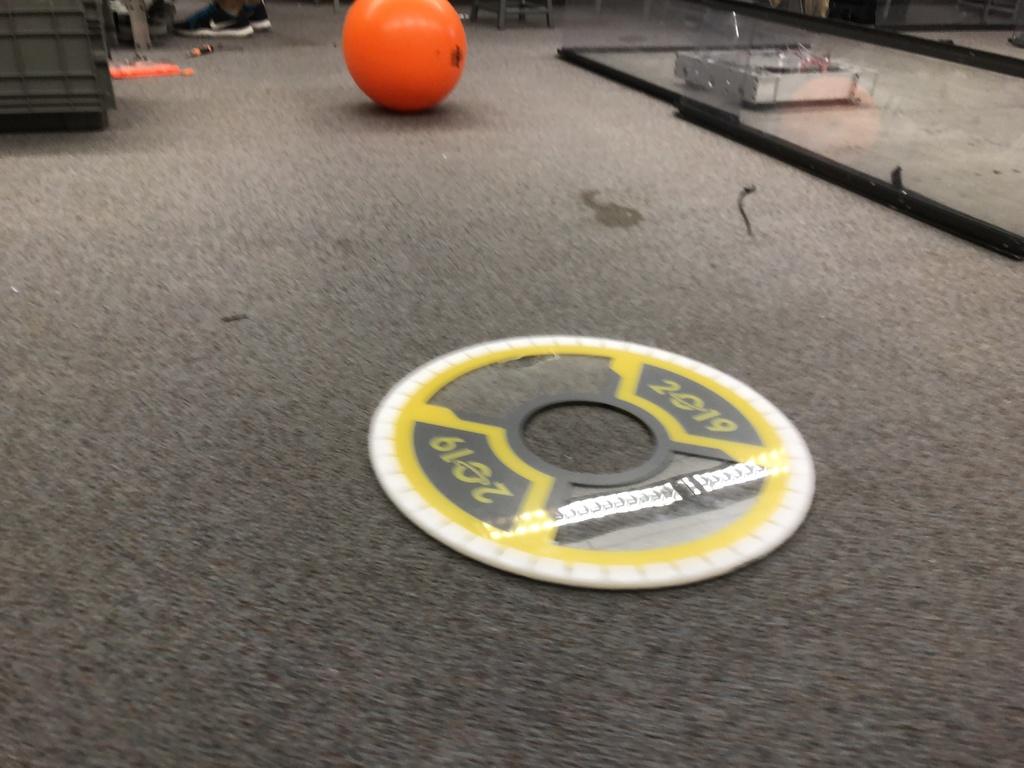hatch_panel: (362, 317, 838, 603)
